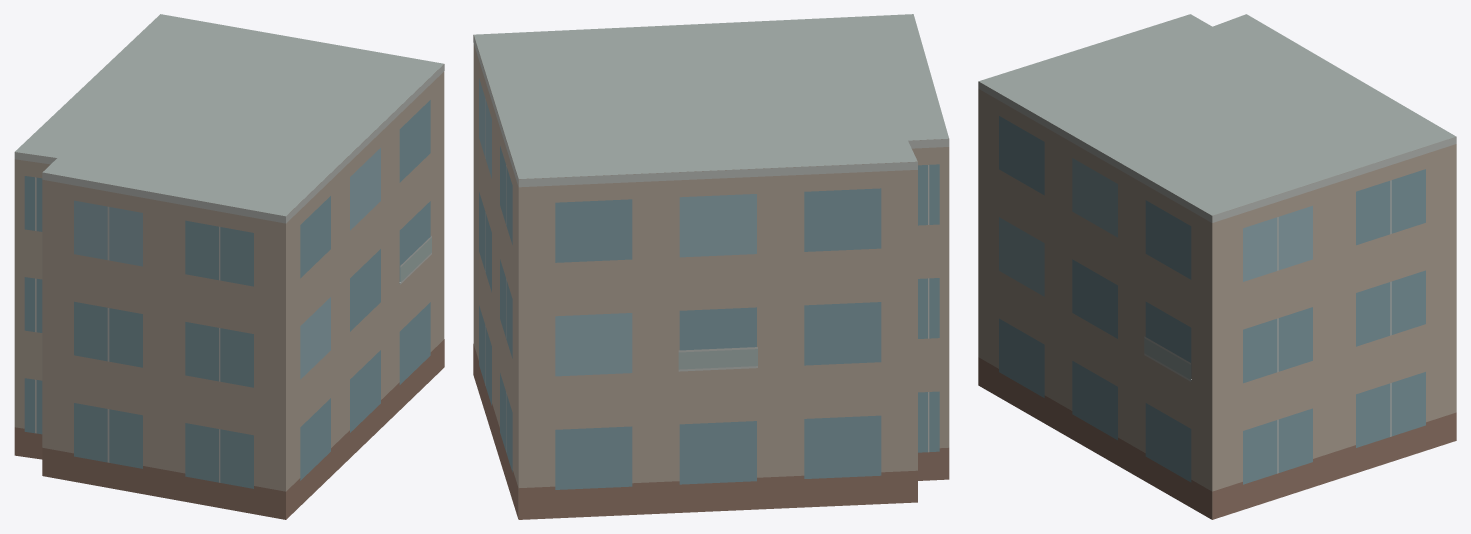
File: survey-upis-32528578.glb
3 views of the same model, side by side, from view 1: azimuth 30°, elevation 25°; view 2: azimuth 150°, elevation 25°; view 3: azimuth 270°, elevation 25° (orthographic). The views are drawn at different scales.
Parts seen in each view (by area): view 1: survey-upis-32528578.tmp; view 2: survey-upis-32528578.tmp; view 3: survey-upis-32528578.tmp.
Part boxes in pixels (x1,y1,x2,y2): survey-upis-32528578.tmp: [14, 14, 444, 519]; survey-upis-32528578.tmp: [473, 14, 949, 519]; survey-upis-32528578.tmp: [978, 14, 1456, 519].
Bounding box in the file's own units: 14.53 × 10.2 × 14.55.
